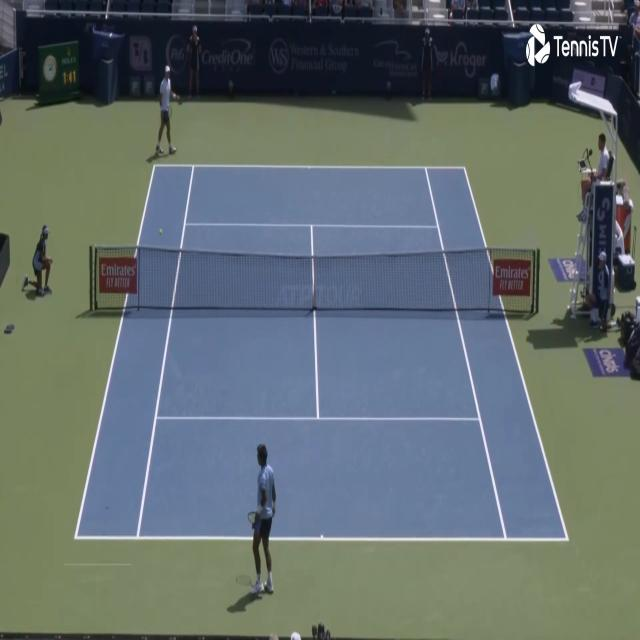tennis-player: (245, 440, 279, 600), (154, 64, 180, 156)
